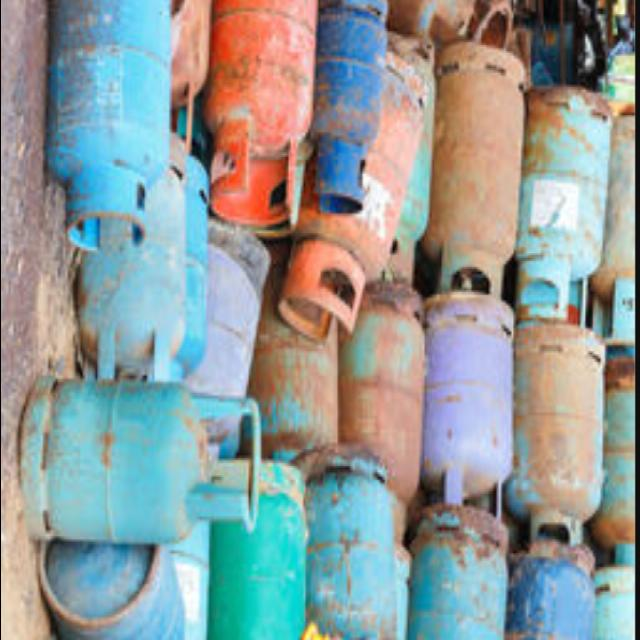cylinder: (18, 377, 261, 543), (46, 0, 169, 252), (420, 40, 524, 300), (201, 2, 314, 226), (515, 86, 613, 328), (304, 2, 386, 216)
